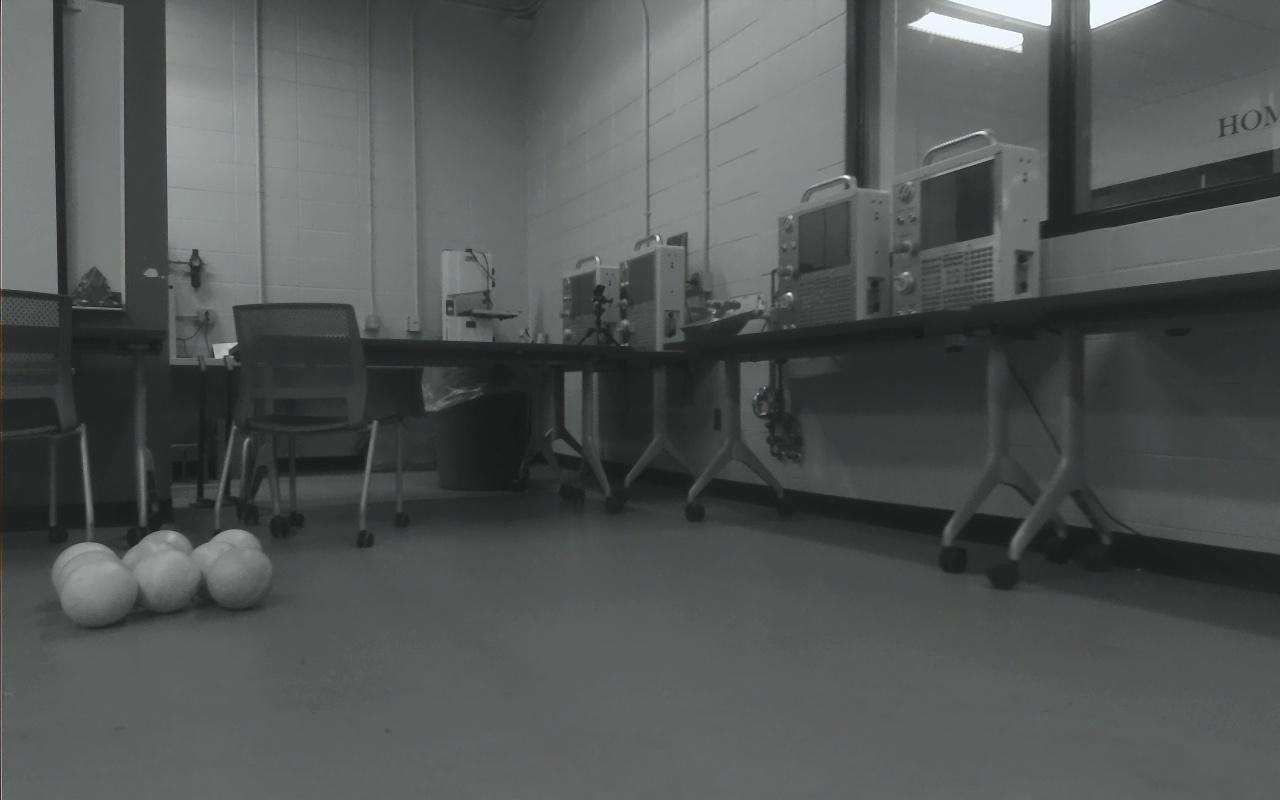Fuel: (60, 562, 138, 628), (133, 549, 202, 613), (205, 546, 273, 609), (56, 552, 122, 609), (123, 539, 182, 600), (51, 542, 116, 595), (137, 529, 193, 580), (192, 539, 242, 595), (210, 529, 261, 574)
